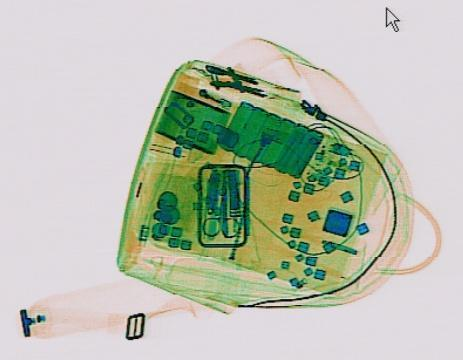Scissors: (200, 176, 244, 236)
